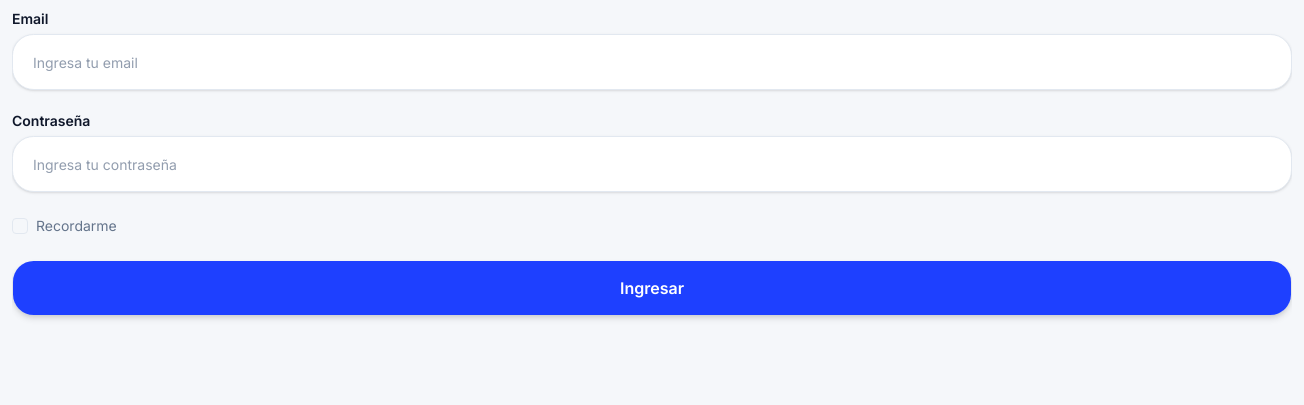
Test: LoginForm › muestra error de red si fetch lanza
Type "user@suragaming.com" into the field labelled "Email". click: [652, 62]
box: [12, 34, 1292, 90]
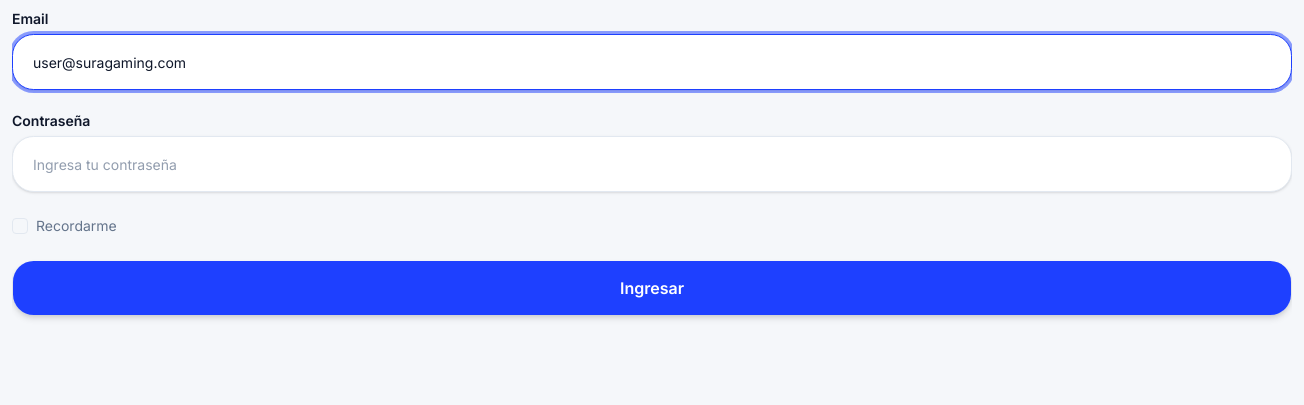
Type "x" into the password field labelled "Contraseña". click: [652, 164]
box: [12, 136, 1292, 192]
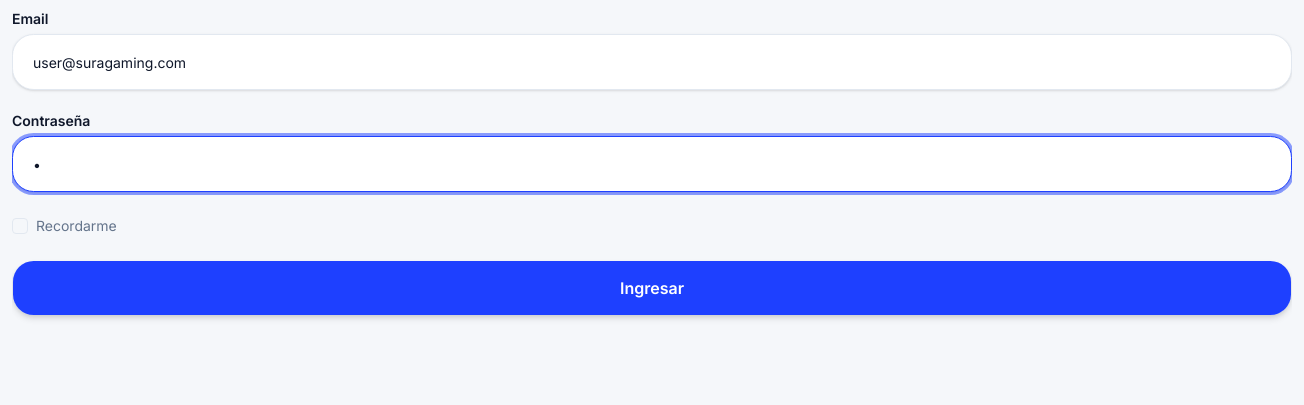
Click the button "Ingresar". click: [652, 288]
box: [12, 260, 1292, 316]
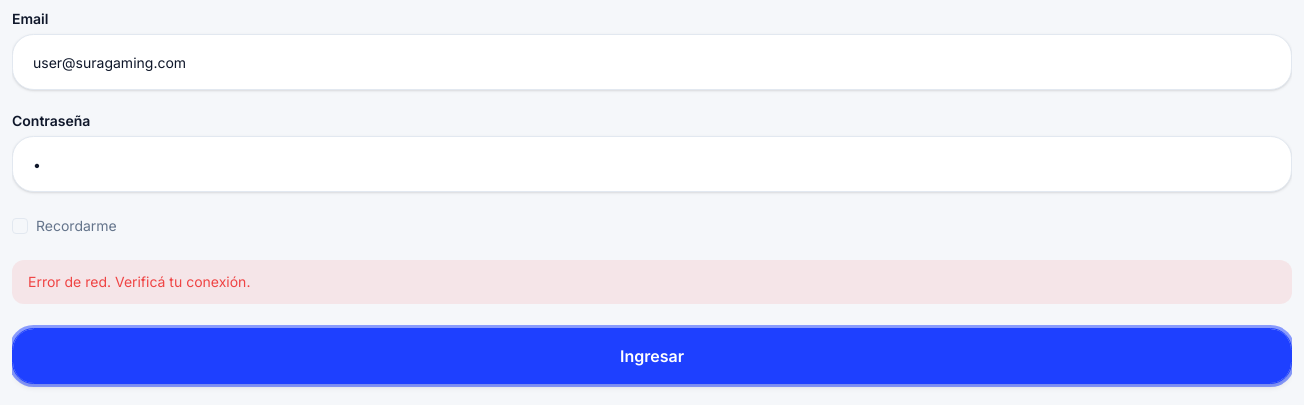
Expected: the text "Error de red. Verificá tu conexión." is shown, [12, 260, 1292, 304]
